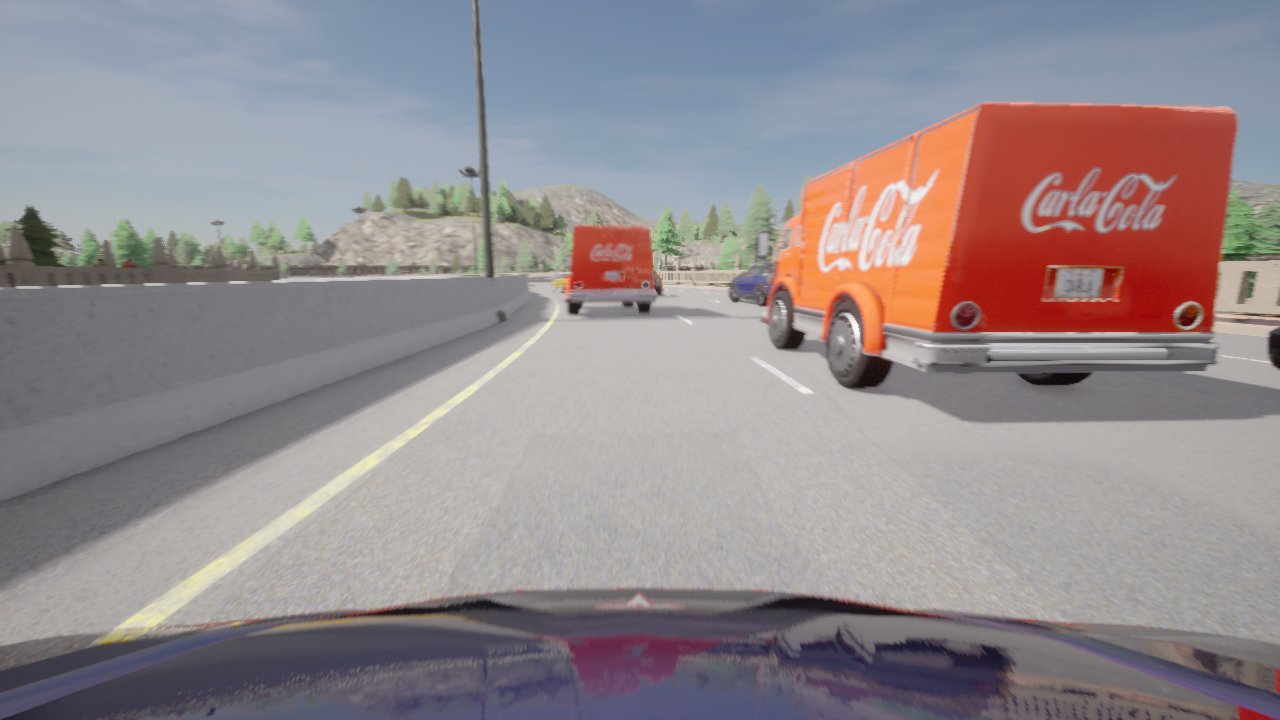cyclist: (0, 588, 1279, 719), (756, 102, 1238, 388), (565, 226, 656, 314), (729, 262, 774, 305), (1268, 322, 1279, 369), (553, 272, 570, 293), (653, 271, 662, 295)
pedestrian: (121, 258, 136, 284), (93, 258, 106, 275), (100, 276, 102, 285)
